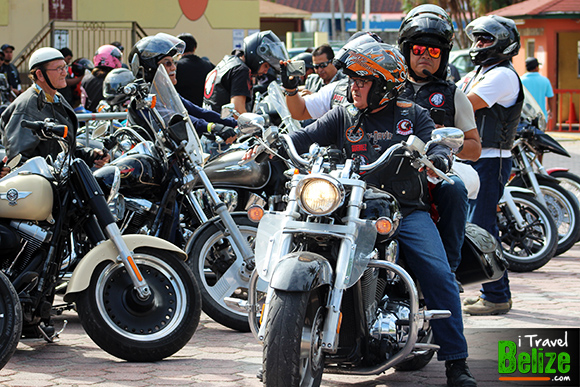helmet: (340, 44, 407, 89), (462, 16, 521, 58), (401, 6, 453, 49)
